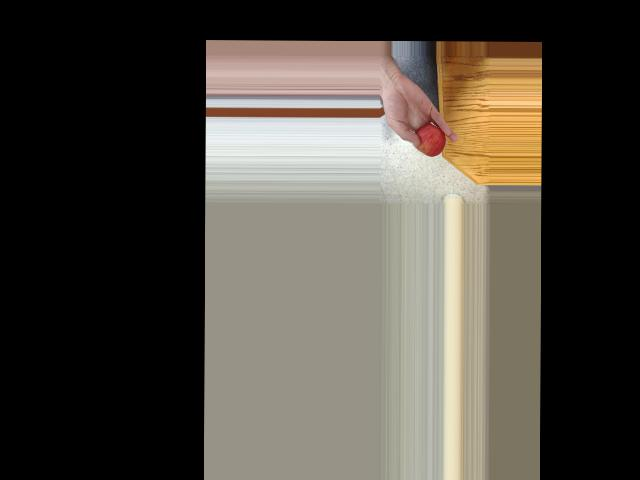apple: (410, 120, 445, 157)
